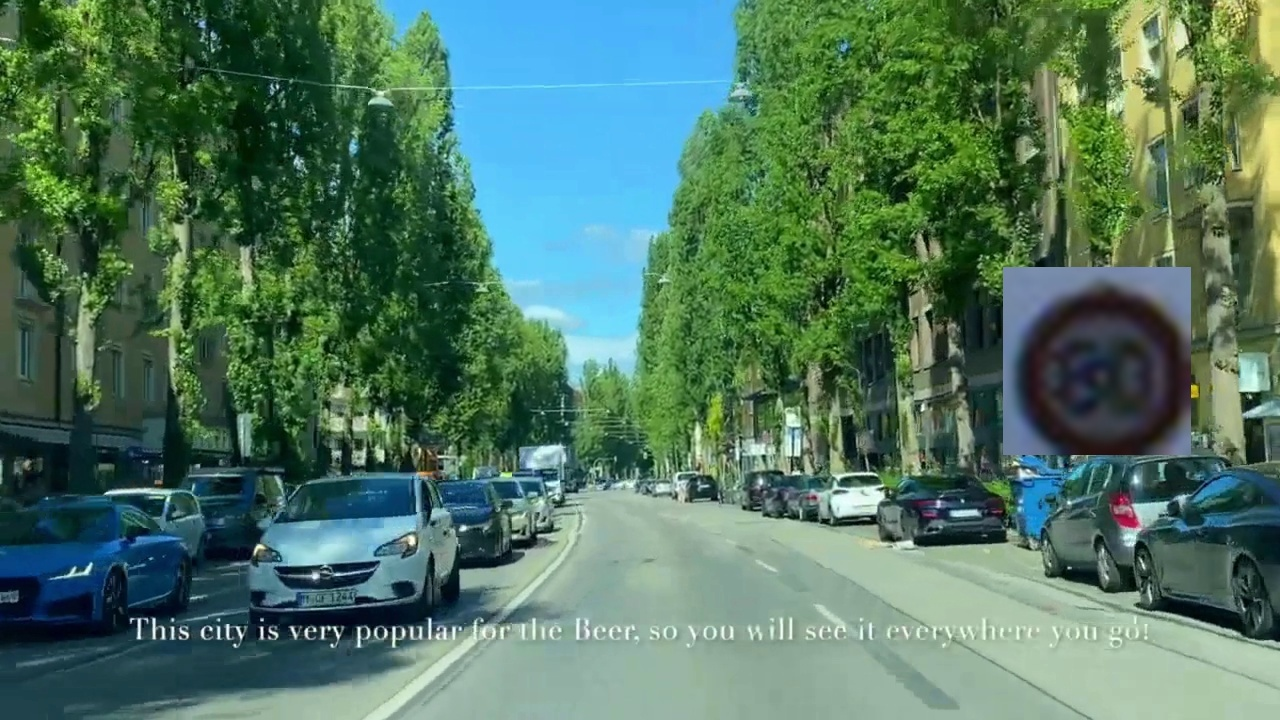Speed 80: (1003, 267, 1191, 455)
